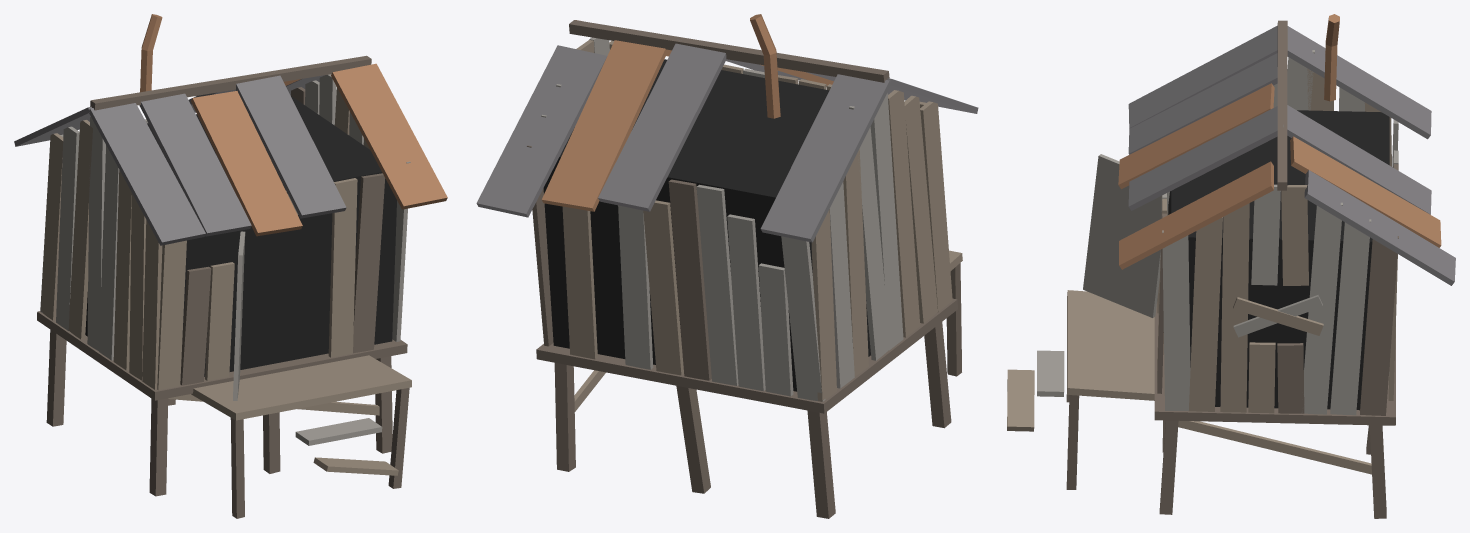
Rendered from Shack_Abandoned_A.fbx.
The picture shows the model from 3 angles, left to right: view 1: azimuth 30°, elevation 25°; view 2: azimuth 150°, elevation 25°; view 3: azimuth 270°, elevation 25°; orthographic projection. The views are drawn at different scales.
Parts seen in each view (by area): view 1: Shack_Abandoned_A; view 2: Shack_Abandoned_A; view 3: Shack_Abandoned_A.
Boxes of the visible parts, x1,y1,x2,y2 form: Shack_Abandoned_A: (14, 14, 447, 518); Shack_Abandoned_A: (476, 14, 978, 518); Shack_Abandoned_A: (1007, 14, 1455, 518).
Bounding box in the file's own units: 3.49 × 4.89 × 4.65.
